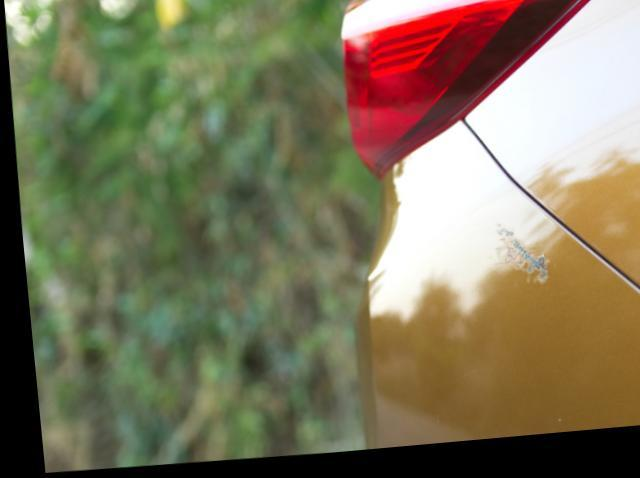scratch: (485, 223, 552, 298)
